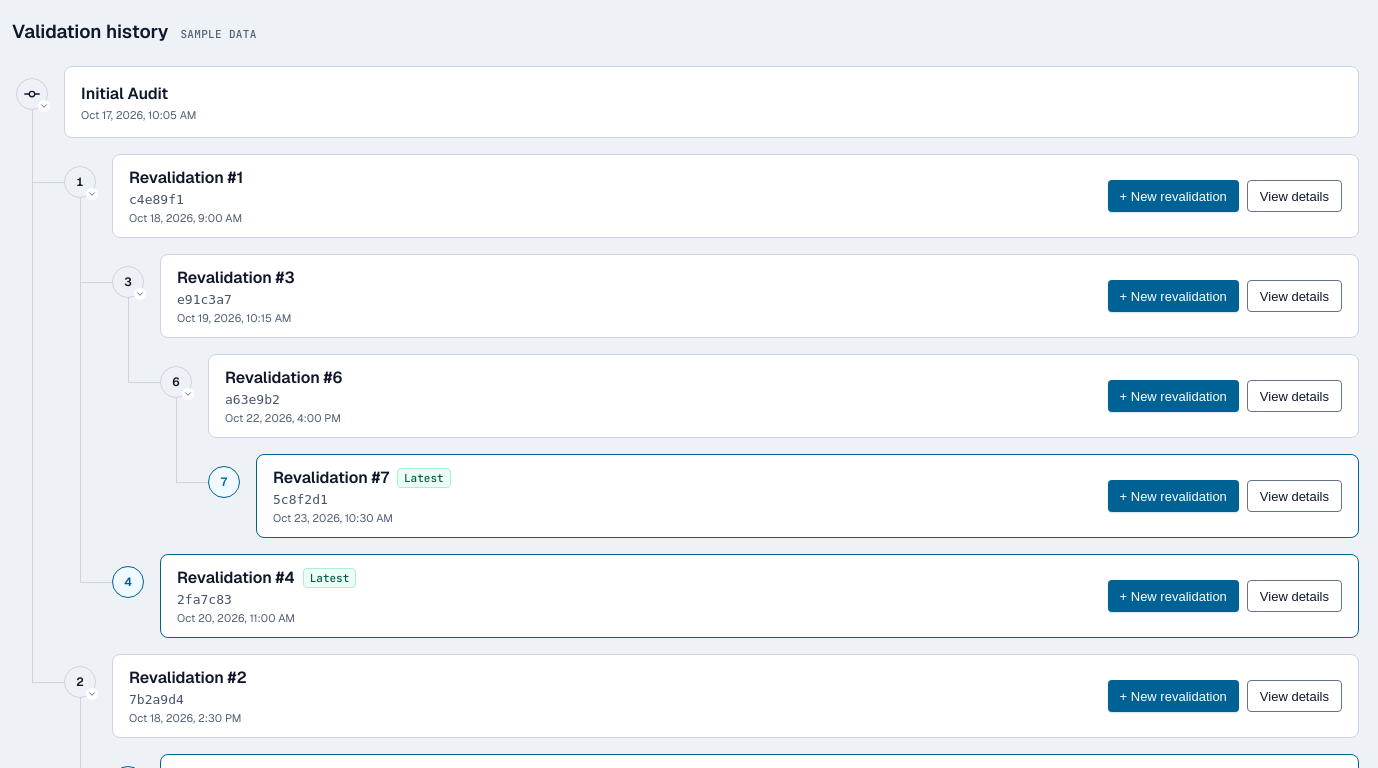
Test case: AuditValidationHistory › collapses only the chosen branch and preserves nested collapse state when it is reopened
The image size is (1378, 768).
Click the button named "Hide revalidations of Revalidation #3" at (128, 282), box [112, 266, 144, 298]
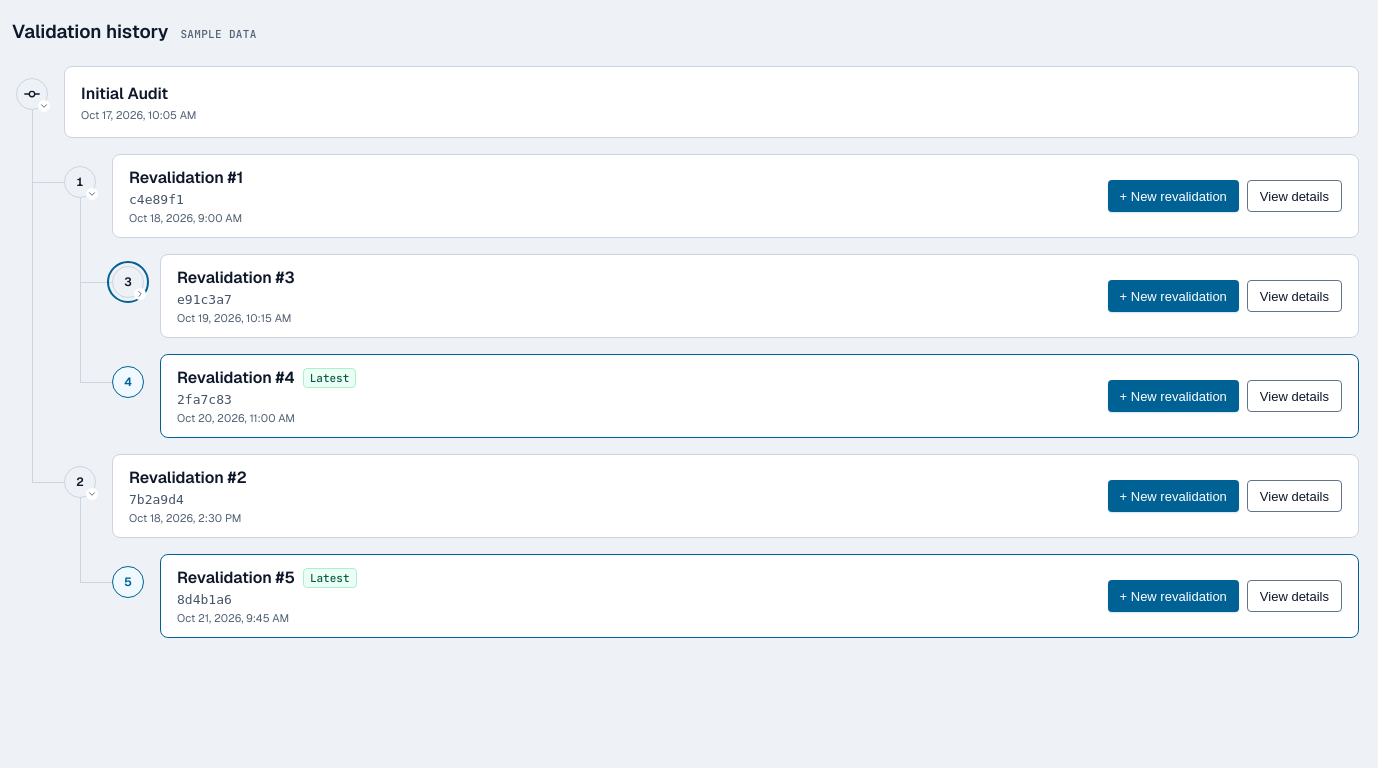
Expected: the text "Revalidation #4" is shown, [177, 367, 295, 388]
Now the text "Revalidation #6" is gone
Now the text "Revalidation #7" is gone
Click the button named "Hide revalidations of Revalidation #1" at (80, 182), box [64, 166, 96, 198]
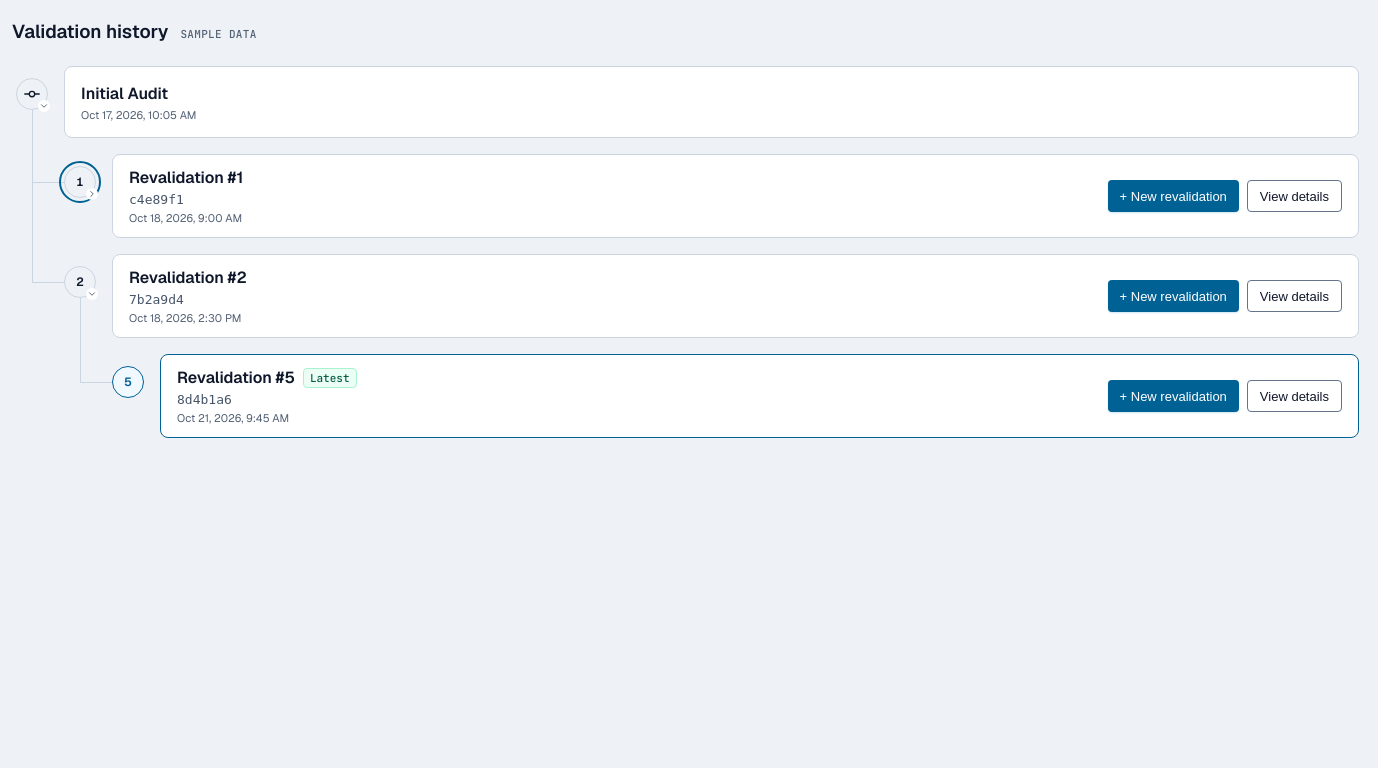
Expected: the text "Revalidation #2" is shown, [129, 267, 247, 288]
Now the text "Revalidation #3" is gone
Click the button named "Show revalidations of Revalidation #1" at (80, 182), box [64, 166, 96, 198]
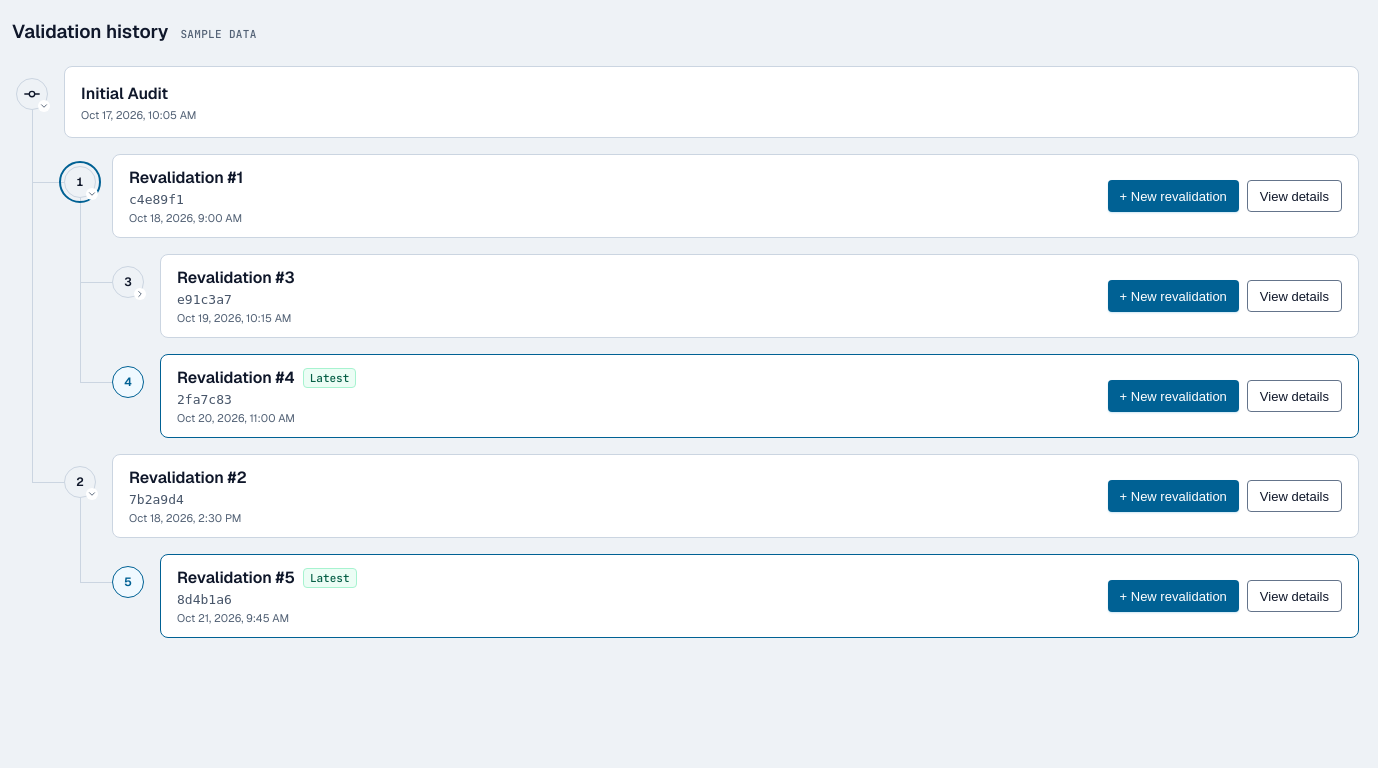
Expected: the text "Revalidation #6" is not shown
Now the text "Revalidation #3" is shown, box [177, 267, 295, 288]
Click the button named "Show revalidations of Revalidation #3" at (128, 282), box [112, 266, 144, 298]
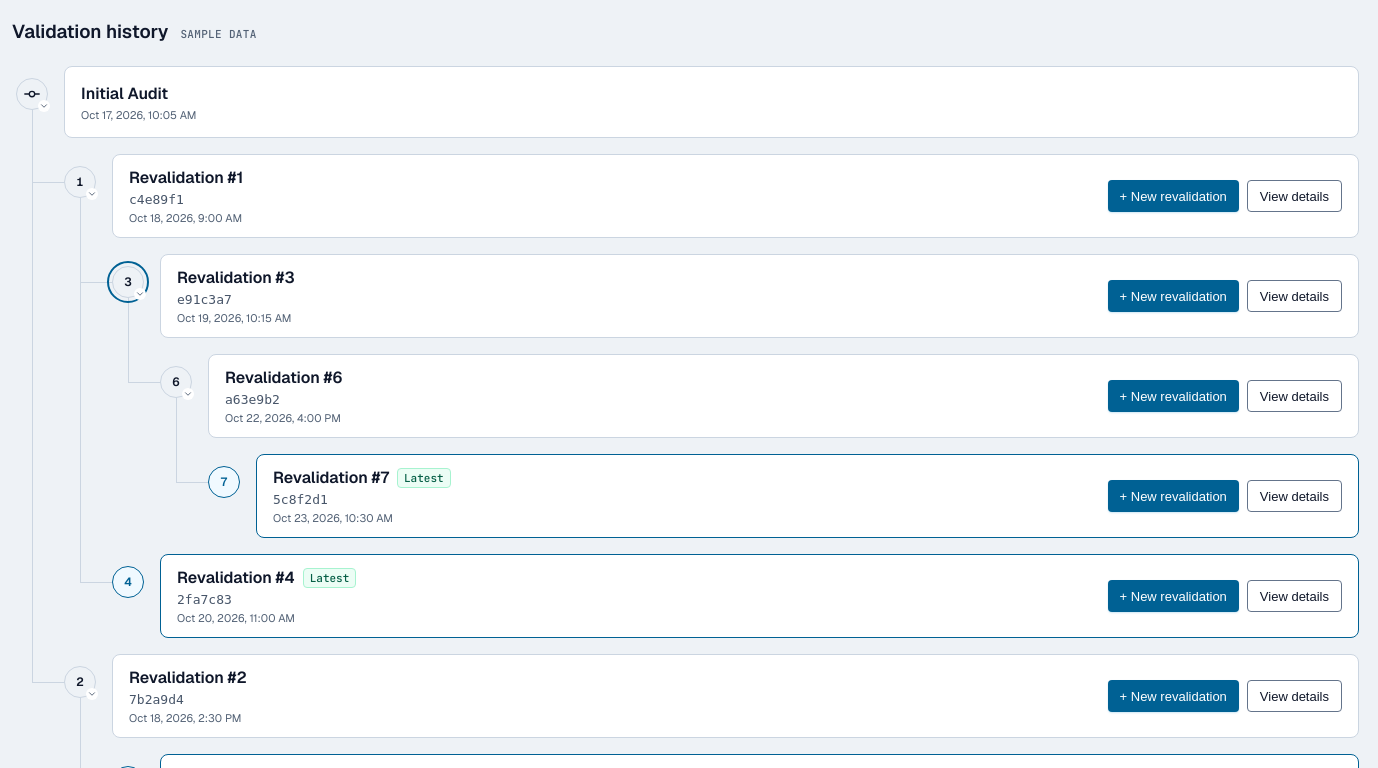
Now the text "Revalidation #7" is shown, box [273, 467, 389, 488]
Now the text "Latest" is shown 3 times
